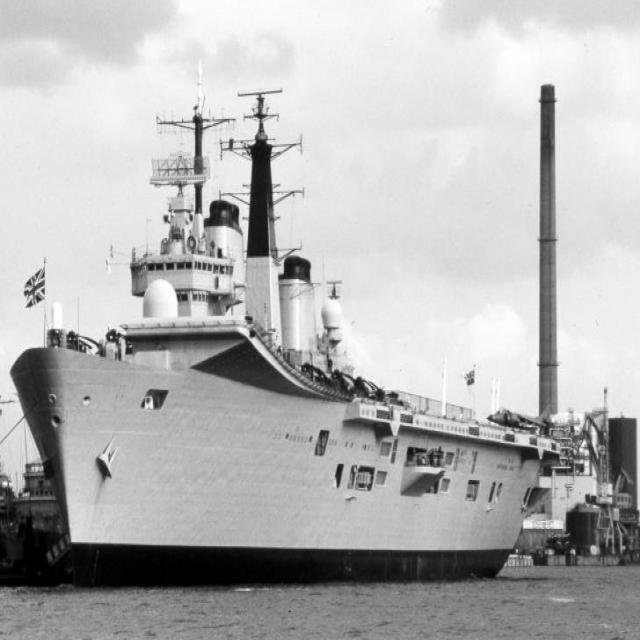Portanaves: (6, 69, 562, 586)
